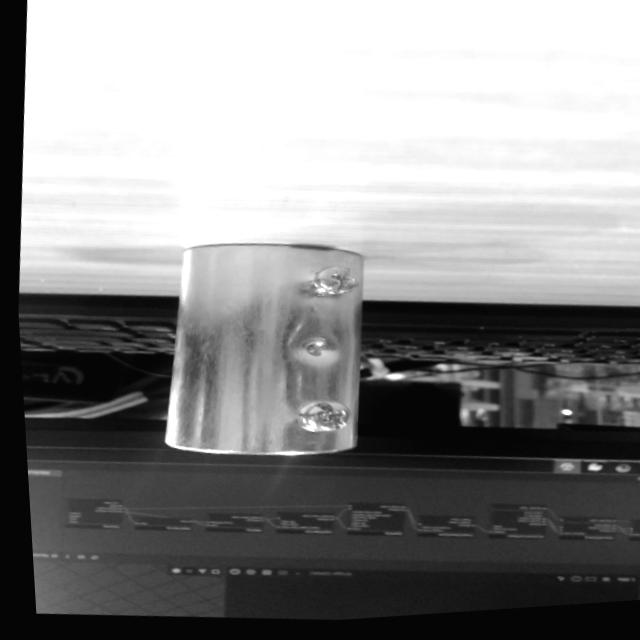Co_Nho: (164, 238, 367, 461)
